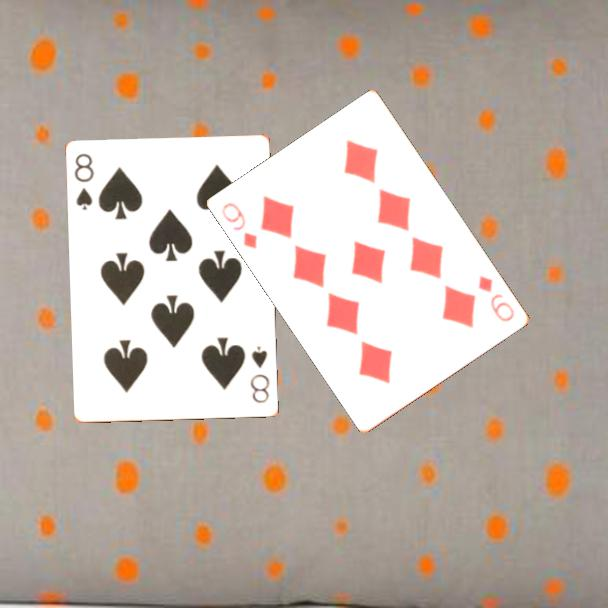d09: (475, 272, 518, 325), (218, 199, 261, 252)
s08: (247, 343, 273, 406), (71, 151, 97, 213)
